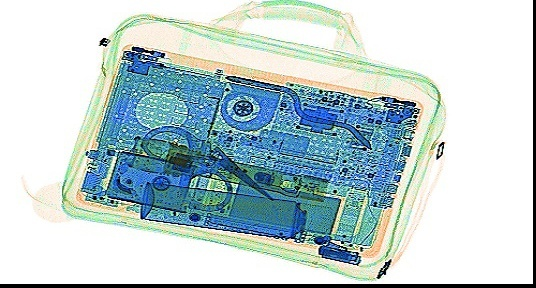handcuffs: (141, 122, 233, 211)
pressure: (137, 180, 334, 243)
scissors: (177, 119, 274, 201)
